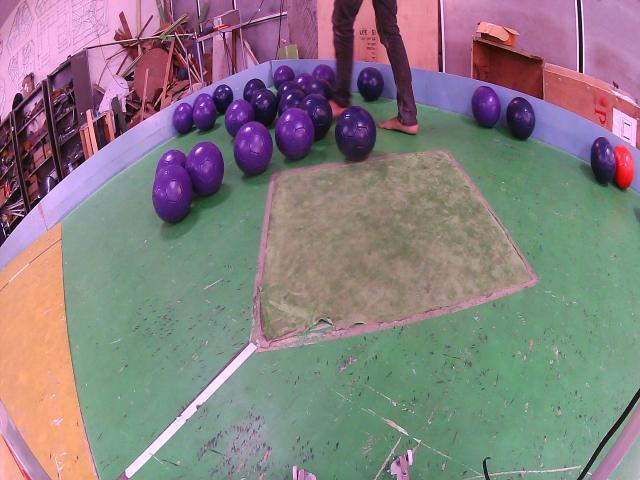jambhalya: (152, 165, 192, 223), (185, 142, 224, 197), (275, 108, 315, 160), (234, 122, 272, 175), (471, 87, 501, 128), (225, 100, 255, 137), (192, 93, 218, 132), (156, 150, 186, 172), (172, 103, 194, 133), (312, 63, 335, 87), (274, 65, 295, 90), (294, 72, 314, 92)
kaalyya: (335, 105, 376, 162), (299, 93, 332, 139), (506, 97, 535, 140), (590, 137, 616, 183), (250, 88, 278, 126), (278, 80, 305, 116), (358, 67, 384, 102), (212, 85, 234, 113), (304, 78, 332, 100), (244, 78, 265, 102)
